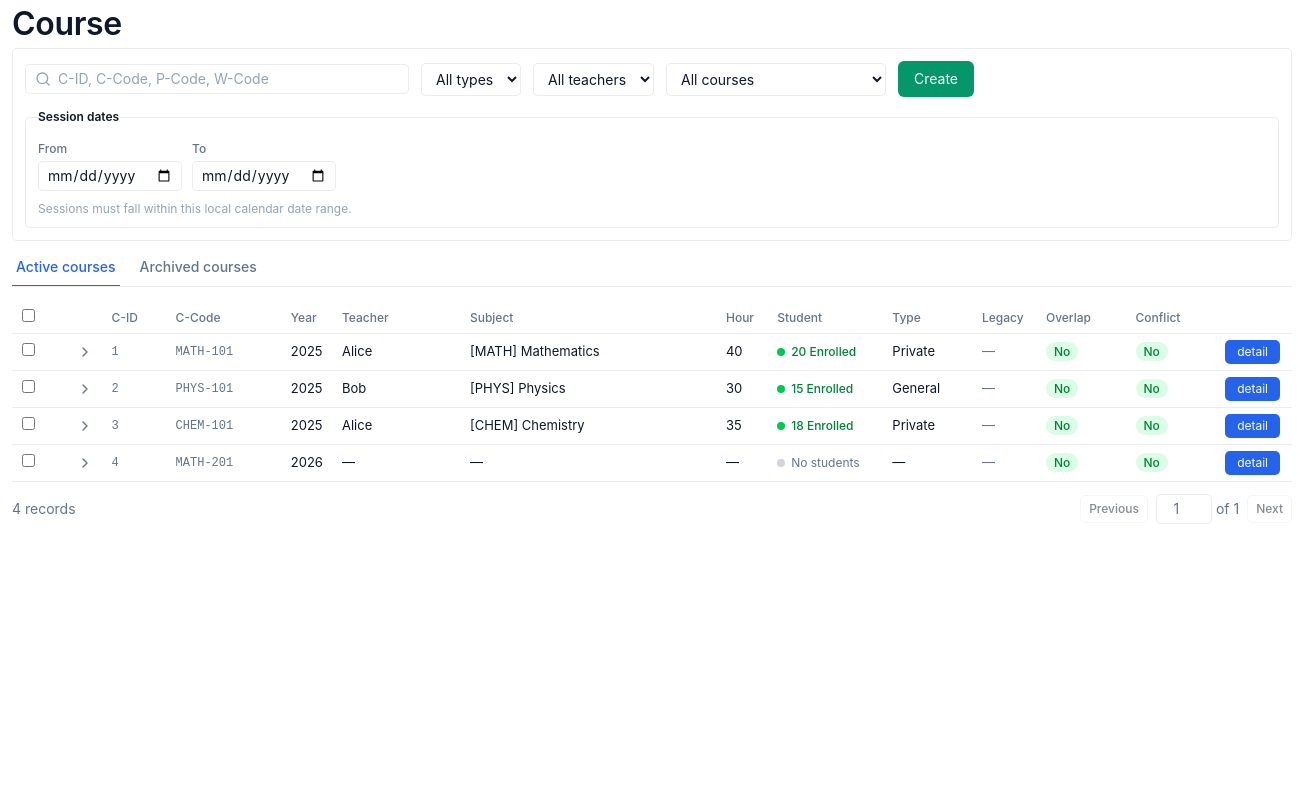
Test: Courses bulk editor › select-all checkbox selects all visible rows
Expected: the text "MATH-101" is shown, x1=176 y1=344 x2=233 y2=360
Click the checkbox named "Select all courses".
click(28, 316)  # box x1=22 y1=309 x2=35 y2=322
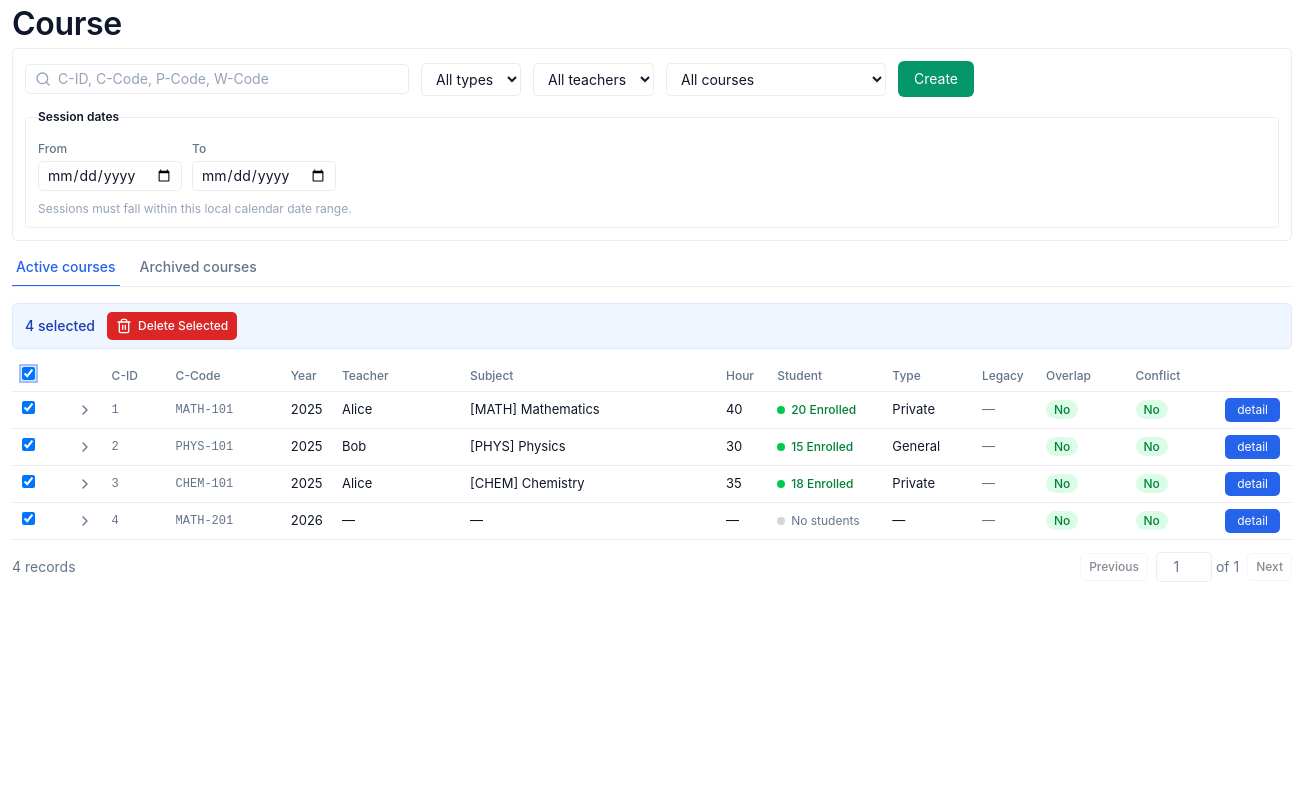
Result: the checkbox named "Select all courses" is checked at x1=22 y1=367 x2=35 y2=380
Result: the checkbox named "Select MATH-101" is checked at x1=22 y1=401 x2=35 y2=414
Result: the checkbox named "Select PHYS-101" is checked at x1=22 y1=438 x2=35 y2=451
